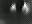person: (22, 3, 30, 16), (12, 4, 18, 15)
